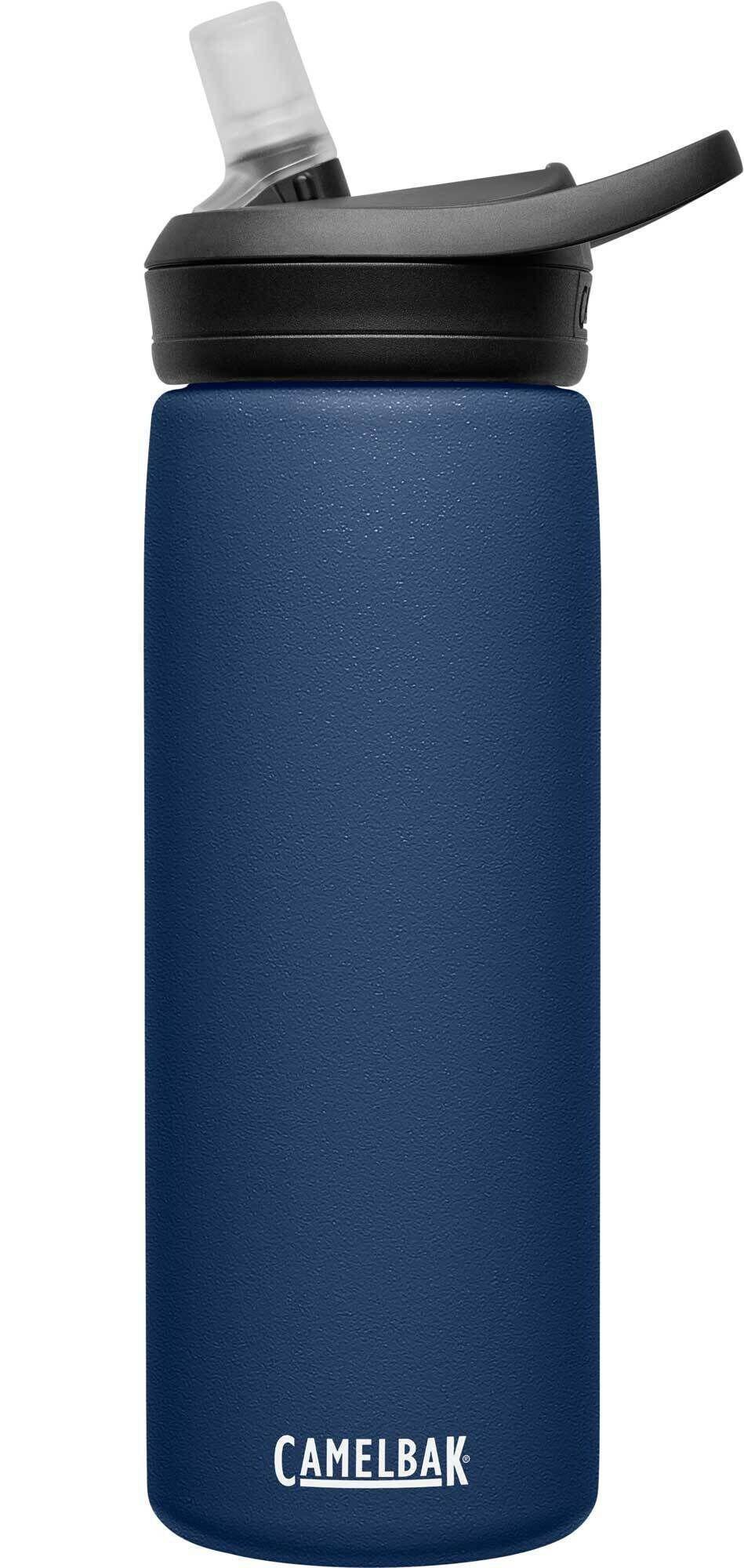gym bottle: (127, 0, 739, 1567)
